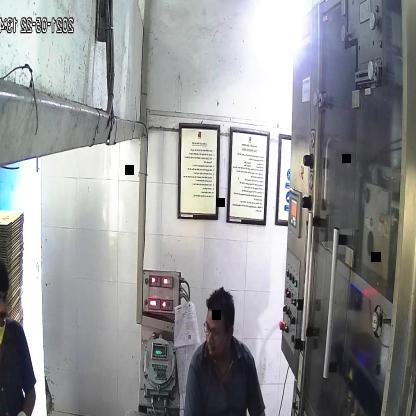goggles: (202, 314, 240, 341)
no_goggles: (0, 285, 11, 309)
